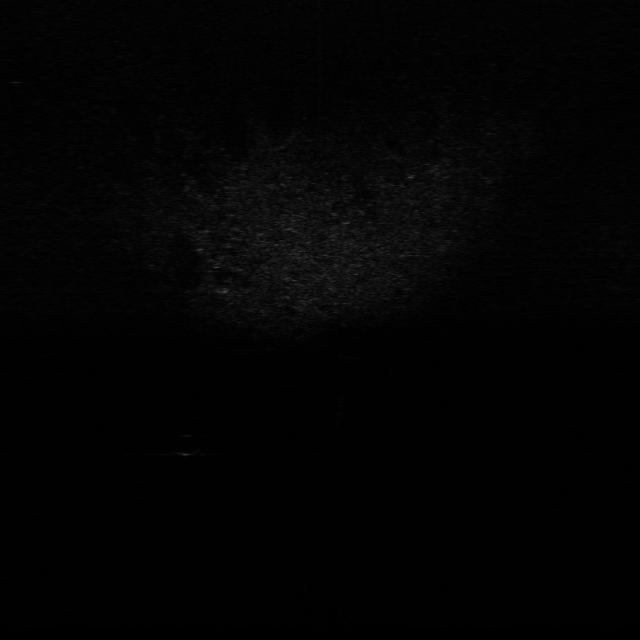ball: (168, 429, 203, 458)
